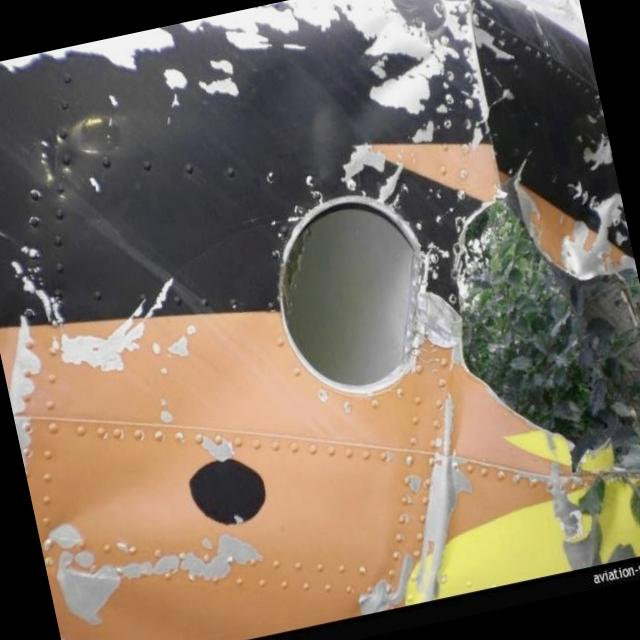dent: (36, 453, 210, 558), (294, 102, 346, 186), (345, 95, 385, 142)
